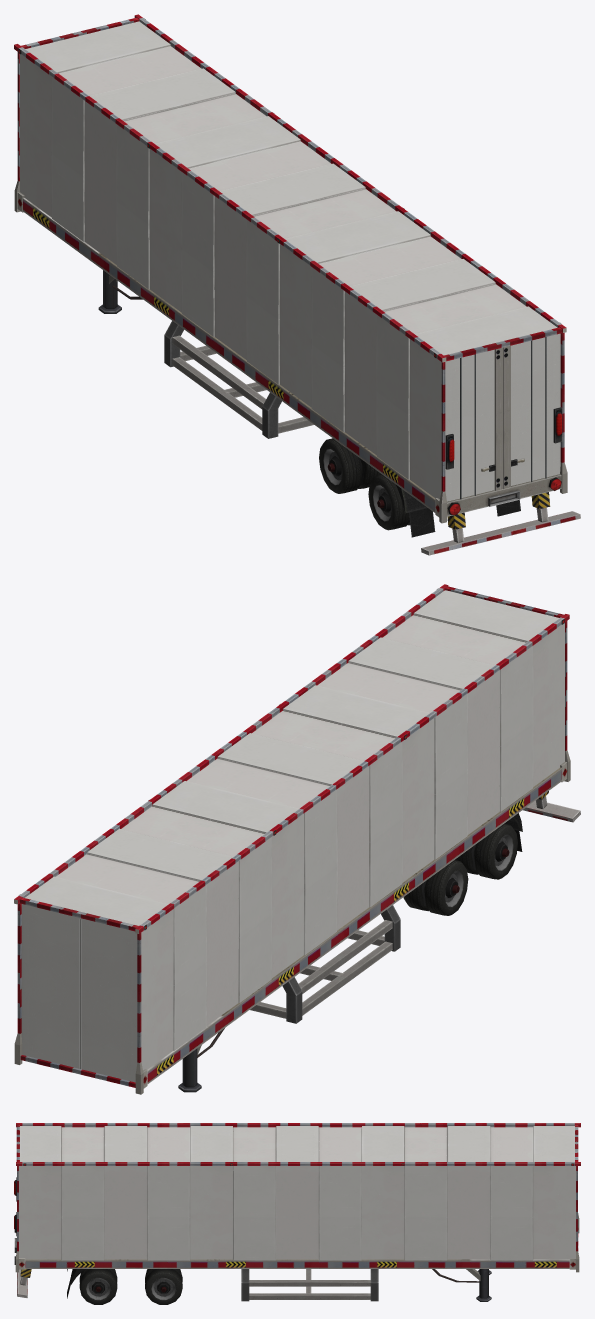
The model's file is Trailer.glb.
The picture shows the model from 3 angles, top to bottom: view 1: azimuth 30°, elevation 25°; view 2: azimuth 150°, elevation 25°; view 3: azimuth 270°, elevation 25°; orthographic projection. The views are drawn at different scales.
Parts seen in each view (by area): view 1: Trailer__LOD3; view 2: Trailer__LOD3; view 3: Trailer__LOD3.
Boxes of the visible parts, left/top/right/bottom form: Trailer__LOD3: left=14, top=14, right=580, bottom=555; Trailer__LOD3: left=14, top=584, right=580, bottom=1094; Trailer__LOD3: left=14, top=1123, right=580, bottom=1304.
Size of the model in its own units: 3.03 by 4.14 by 14.87.
1 material, 1 textured.
